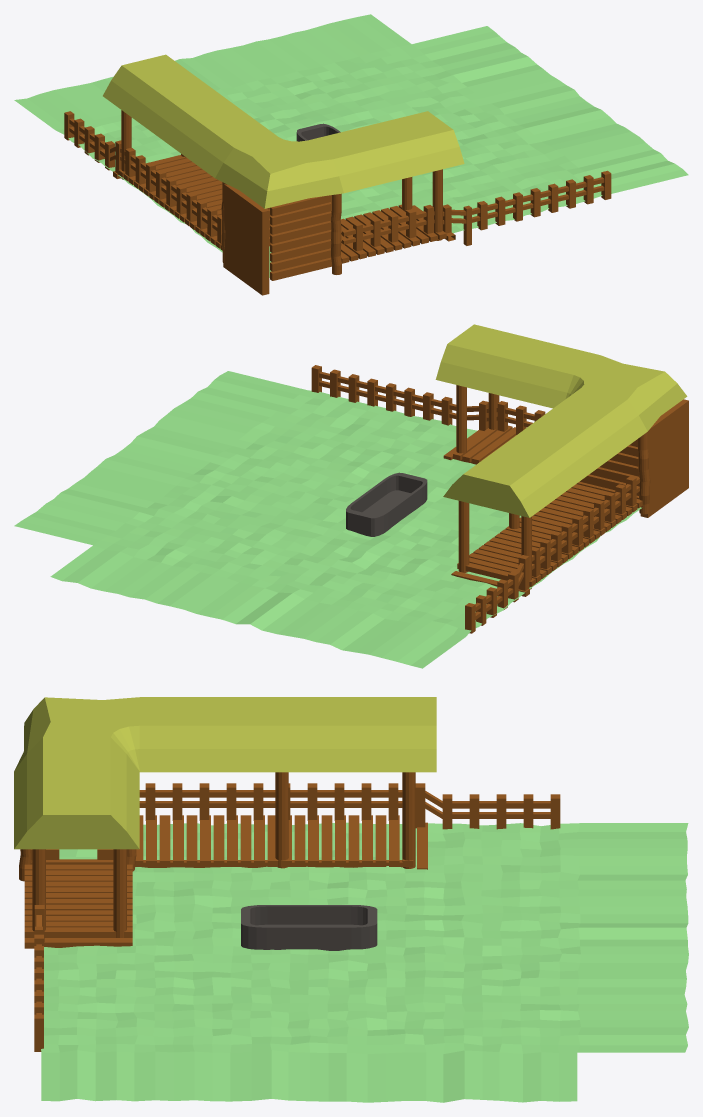
File: Kandang Llama.fbx
3 views of the same model, one above another, from view 1: azimuth 30°, elevation 25°; view 2: azimuth 150°, elevation 25°; view 3: azimuth 270°, elevation 25° (orthographic). The views are drawn at different scales.
Parts seen in each view (by area): view 1: Ground, Roof, Cube, Food Place; view 2: Ground, Cube, Roof, Food Place; view 3: Ground, Cube, Roof, Food Place.
Boxes of the visible parts, x1=… form: Ground: x1=14, y1=14, x2=688, y2=277; Roof: x1=64, y1=110, x2=611, y2=295; Cube: x1=103, y1=54, x2=464, y2=208; Food Place: x1=296, y1=123, x2=340, y2=141; Ground: x1=14, y1=371, x2=641, y2=668; Cube: x1=435, y1=324, x2=687, y2=517; Roof: x1=311, y1=365, x2=688, y2=633; Food Place: x1=346, y1=472, x2=427, y2=536; Ground: x1=41, y1=822, x2=688, y2=1102; Cube: x1=14, y1=697, x2=436, y2=849; Roof: x1=19, y1=772, x2=560, y2=1051; Food Place: x1=241, y1=905, x2=377, y2=950.
Size of the model in its own units: 2475 by 629 by 2501.
